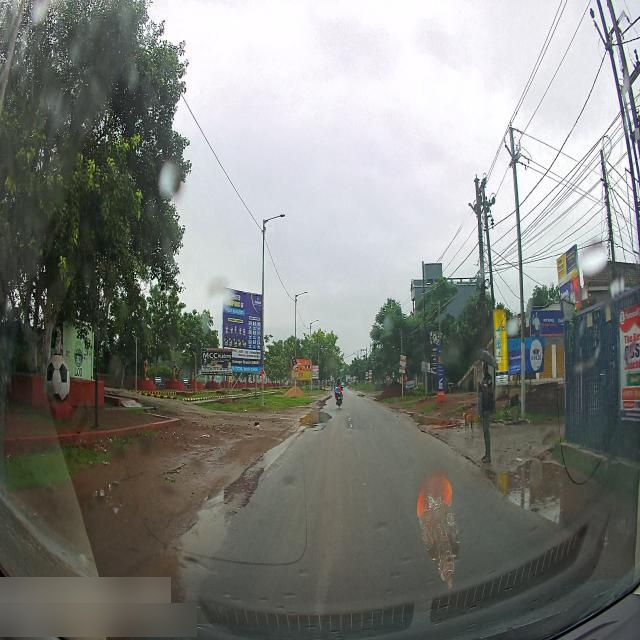pothole: (62, 570, 212, 628), (488, 458, 592, 528), (167, 514, 248, 579), (216, 465, 284, 520), (292, 396, 351, 446)
